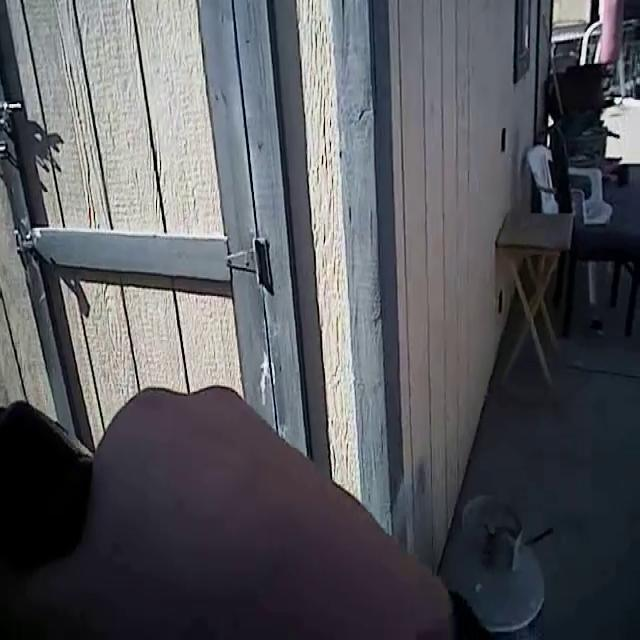gun: (0, 377, 138, 592)
